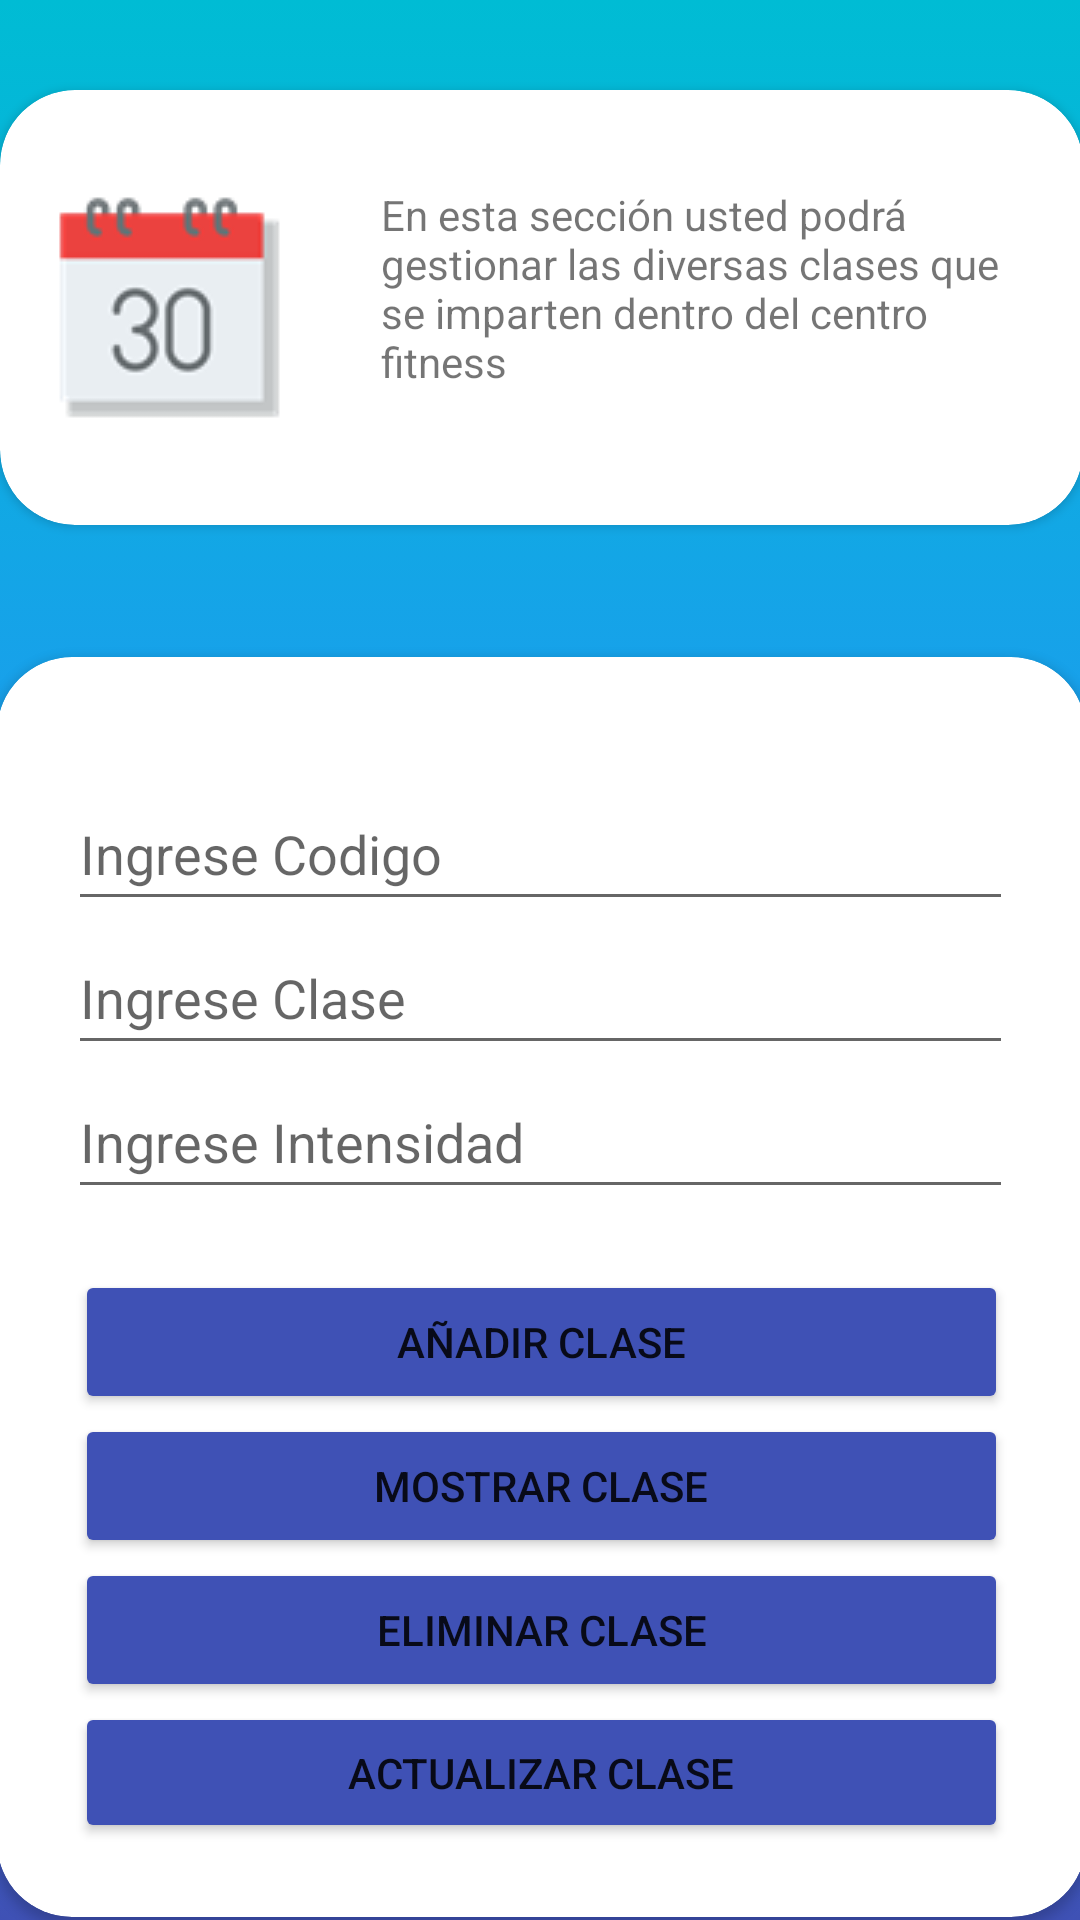

Icons on this 1080w x 1920h Android screen, each with its box as (x1,y1,x2,y2):
calendar: (59,197,280,418)
